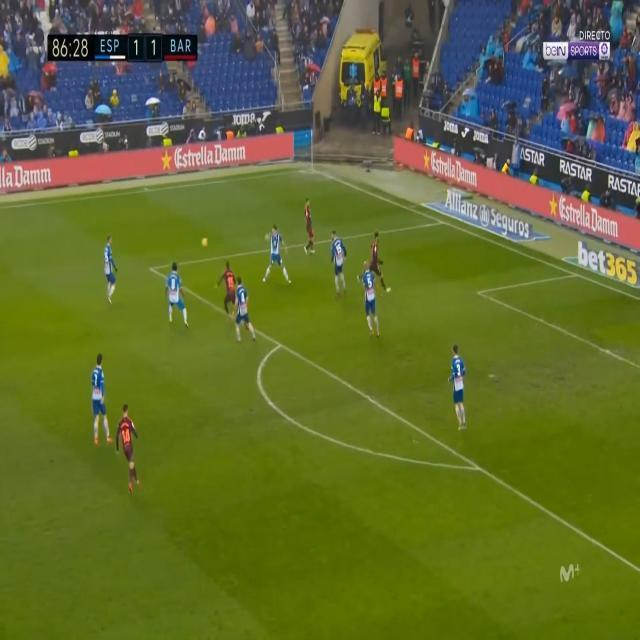ball: (201, 232, 211, 250)
player: (114, 400, 144, 491), (445, 344, 473, 436), (86, 351, 112, 442), (359, 258, 384, 337), (96, 233, 122, 308), (164, 260, 191, 332), (264, 222, 293, 289), (231, 276, 256, 347), (300, 194, 322, 259), (329, 231, 351, 296), (367, 229, 389, 292), (220, 262, 239, 323)
